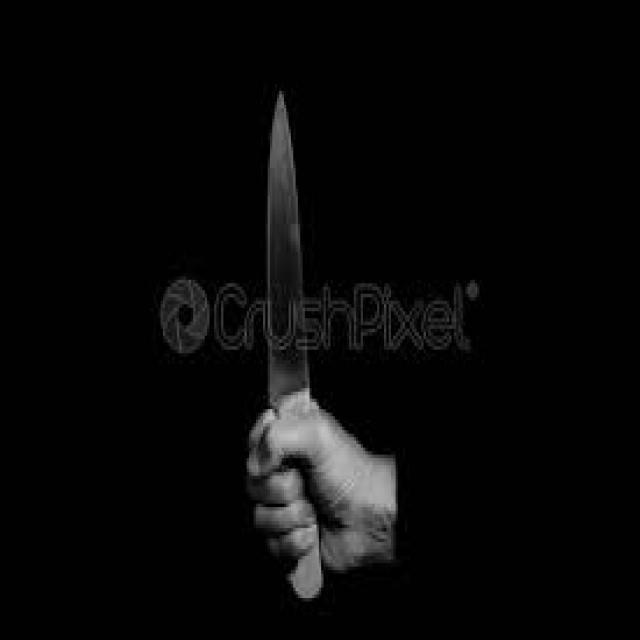faca: (242, 76, 368, 608)
